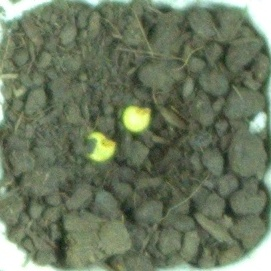pepper seed: (44, 38, 197, 171), (23, 48, 140, 212)
